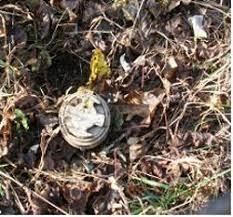pmn: (57, 88, 113, 153)
